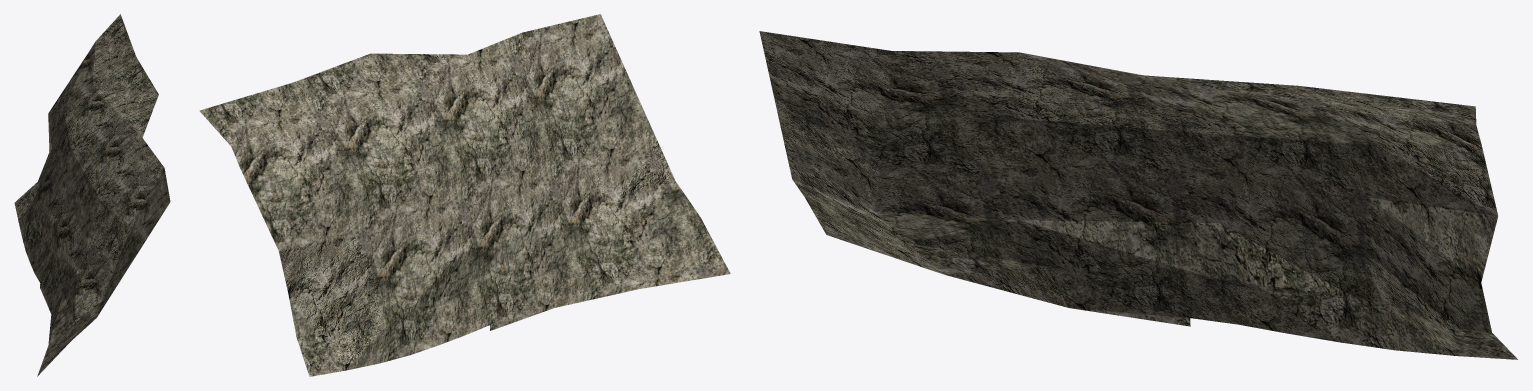
The model's file is ce_grndpalcst01a.obj.
3 renders of one model, left to right at view 1: azimuth 30°, elevation 25°; view 2: azimuth 150°, elevation 25°; view 3: azimuth 270°, elevation 25°, orthographic. The views are drawn at different scales.
Parts seen in each view (by area): view 1: CE_grndPALCST01A; view 2: CE_grndPALCST01A; view 3: CE_grndPALCST01A.
Boxes of the visible parts, left/top/right/bottom form: CE_grndPALCST01A: left=14, top=14, right=170, bottom=376; CE_grndPALCST01A: left=199, top=14, right=730, bottom=376; CE_grndPALCST01A: left=759, top=31, right=1517, bottom=359.
Bounding box in the file's own units: 57.65 × 41.3 × 77.1.
